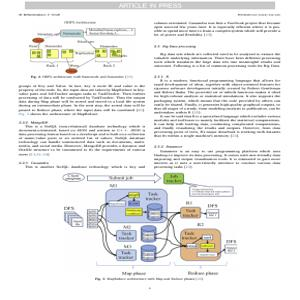diagram: (60, 172, 246, 276), (12, 24, 143, 75)
text: (151, 19, 284, 169), (17, 82, 148, 171), (116, 1, 182, 10)
